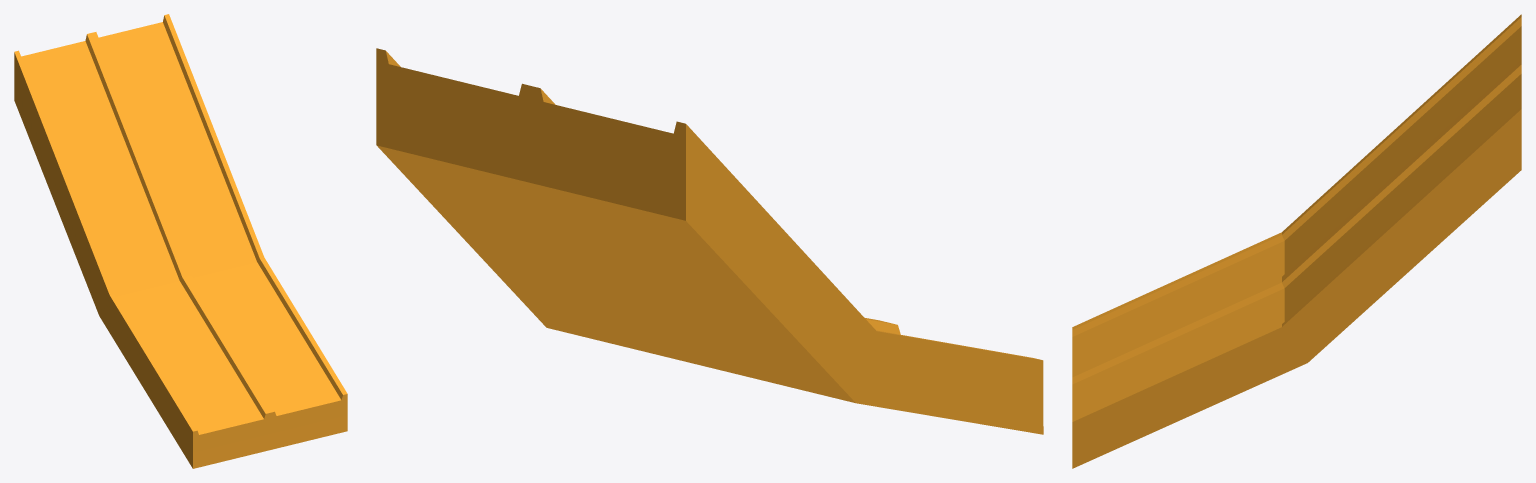
File: SM_Roof_Metal_Moderate_Regular_1x2m.fbx
3 renders of one model, left to right at view 1: azimuth 30°, elevation 25°; view 2: azimuth 150°, elevation 25°; view 3: azimuth 270°, elevation 25°, orthographic. The views are drawn at different scales.
Visible parts, largest first — view 1: roof-metal-moderate-regular-1x2m; view 2: roof-metal-moderate-regular-1x2m; view 3: roof-metal-moderate-regular-1x2m.
Boxes of the visible parts, left/top/right/bottom form: roof-metal-moderate-regular-1x2m: left=14, top=14, right=347, bottom=468; roof-metal-moderate-regular-1x2m: left=376, top=48, right=1043, bottom=434; roof-metal-moderate-regular-1x2m: left=1072, top=14, right=1521, bottom=468.
Size of the model in its own units: 1 by 1.77 by 2.
